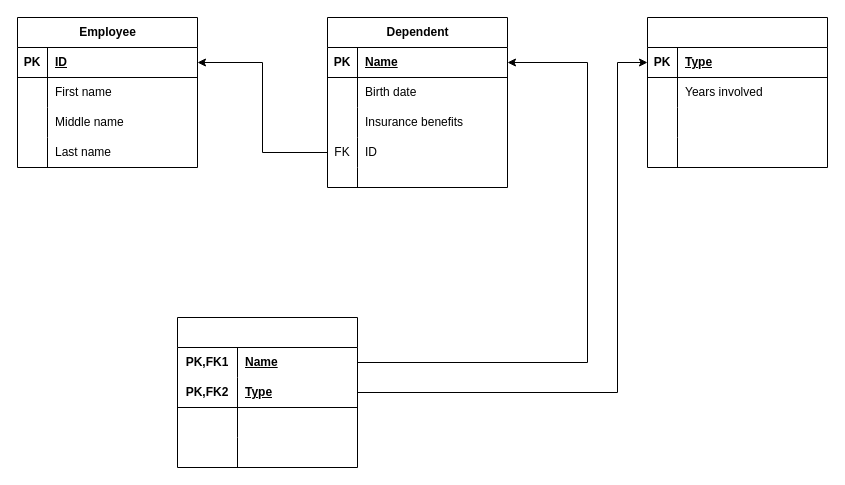
Image size: 845x485. Some labels were removed from this diagram. Here are the shapes that lost their labels. From the top down, the box of each, then its label:
(646, 16, 828, 168): Hobby
(176, 316, 358, 468): Dependent hobby
